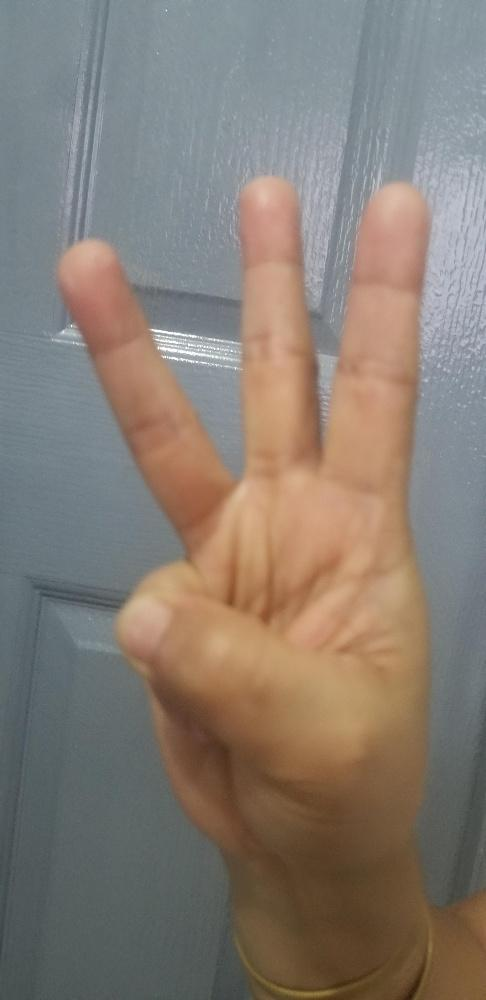w: (58, 173, 431, 845)
